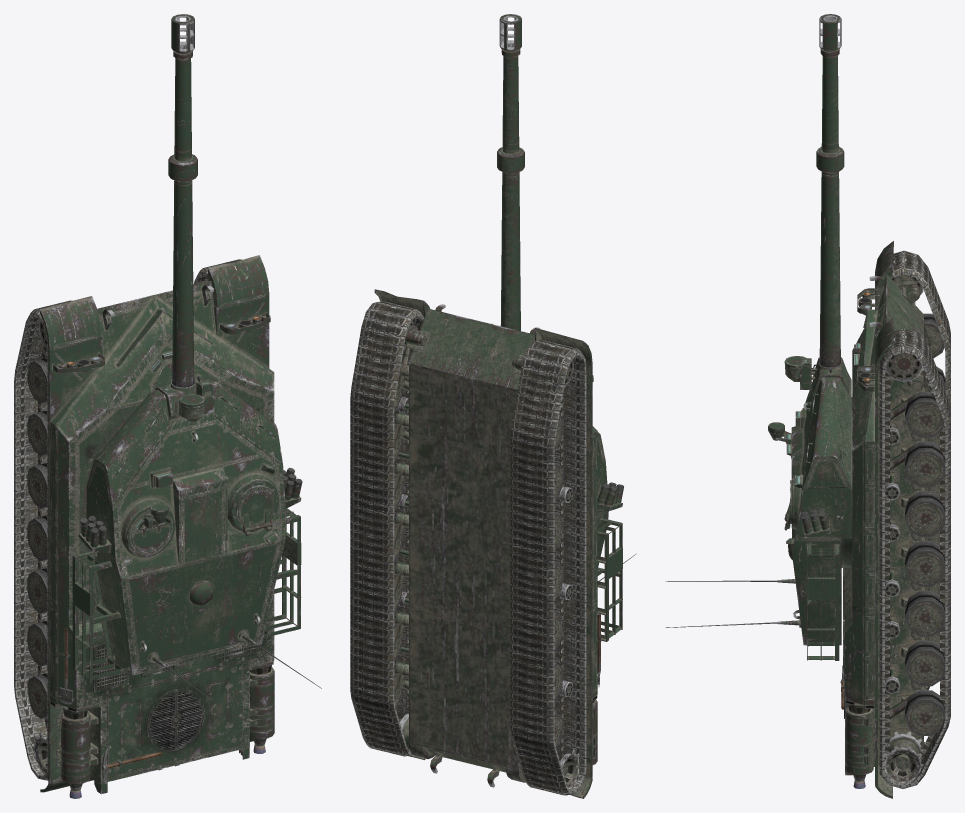
3 renders of one model, left to right at view 1: azimuth 30°, elevation 25°; view 2: azimuth 150°, elevation 25°; view 3: azimuth 270°, elevation 25°, orthographic. The views are drawn at different scales.
Parts seen in each view (by area): view 1: turret_01, hull, hull_nc_skin, turret_01_nc, chassis_track_L, gun_02, turret_01_nc_skin2, hull_nc, gun_02_mask_nc, chassis_wheel_L_06, chassis_wheel_L_08, chassis_wheel_L_04 (+4 smaller); view 2: hull, chassis_track_L, chassis_track_R, gun_02, hull_nc_skin, turret_01_nc, turret_01, chassis_wheel_L_15; view 3: hull, turret_01, chassis_track_R, gun_02, hull_nc_skin, turret_01_nc, chassis_track_L, chassis_wheel_R_12, chassis_wheel_R_04, chassis_wheel_R_08, chassis_wheel_R_06, chassis_wheel_R_10 (+7 smaller).
Boxes of the visible parts, bbox=[...] form: turret_01: bbox=[86, 378, 286, 675]; hull: bbox=[50, 280, 274, 783]; hull_nc_skin: bbox=[40, 255, 274, 798]; turret_01_nc: bbox=[72, 398, 321, 710]; chassis_track_L: bbox=[14, 300, 72, 780]; gun_02: bbox=[168, 14, 197, 387]; turret_01_nc_skin2: bbox=[140, 398, 274, 651]; hull_nc: bbox=[53, 311, 270, 373]; gun_02_mask_nc: bbox=[179, 380, 214, 421]; chassis_wheel_L_06: bbox=[27, 463, 47, 508]; chassis_wheel_L_08: bbox=[27, 515, 47, 561]; chassis_wheel_L_04: bbox=[27, 410, 47, 456]; hull: bbox=[394, 308, 597, 772]; chassis_track_L: bbox=[510, 340, 586, 795]; chassis_track_R: bbox=[350, 301, 424, 756]; gun_02: bbox=[497, 14, 524, 330]; hull_nc_skin: bbox=[374, 289, 601, 798]; turret_01_nc: bbox=[597, 482, 636, 641]; turret_01: bbox=[597, 432, 608, 567]; chassis_wheel_L_15: bbox=[559, 749, 579, 788]; hull: bbox=[843, 274, 931, 766]; turret_01: bbox=[785, 373, 852, 645]; chassis_track_R: bbox=[879, 328, 950, 788]; gun_02: bbox=[816, 14, 844, 367]; hull_nc_skin: bbox=[840, 241, 925, 798]; turret_01_nc: bbox=[665, 364, 839, 660]; chassis_track_L: bbox=[891, 250, 950, 690]; chassis_wheel_R_12: bbox=[905, 640, 945, 686]; chassis_wheel_R_04: bbox=[905, 441, 945, 487]; chassis_wheel_R_08: bbox=[905, 541, 945, 586]; chassis_wheel_R_06: bbox=[905, 491, 945, 536]; chassis_wheel_R_10: bbox=[905, 591, 945, 636].
Size of the model in its own units: 3.41 by 11.44 by 4.06.
Materials: 2 (2 with a texture image).
